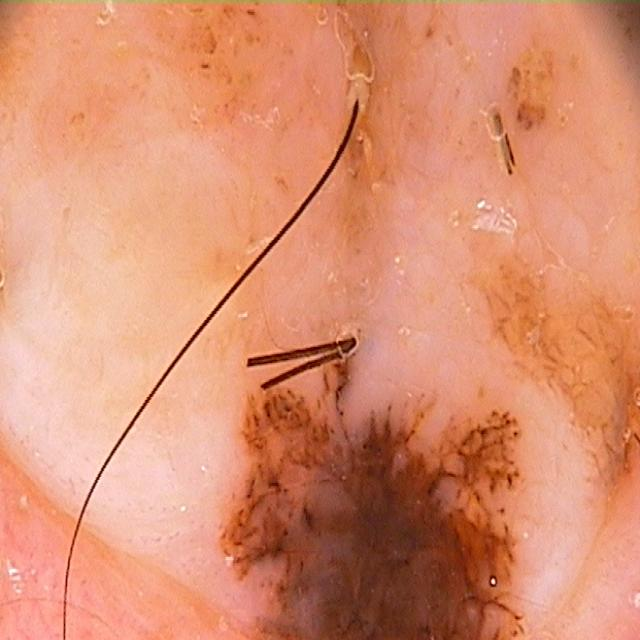Melanoma: (198, 286, 607, 640)
